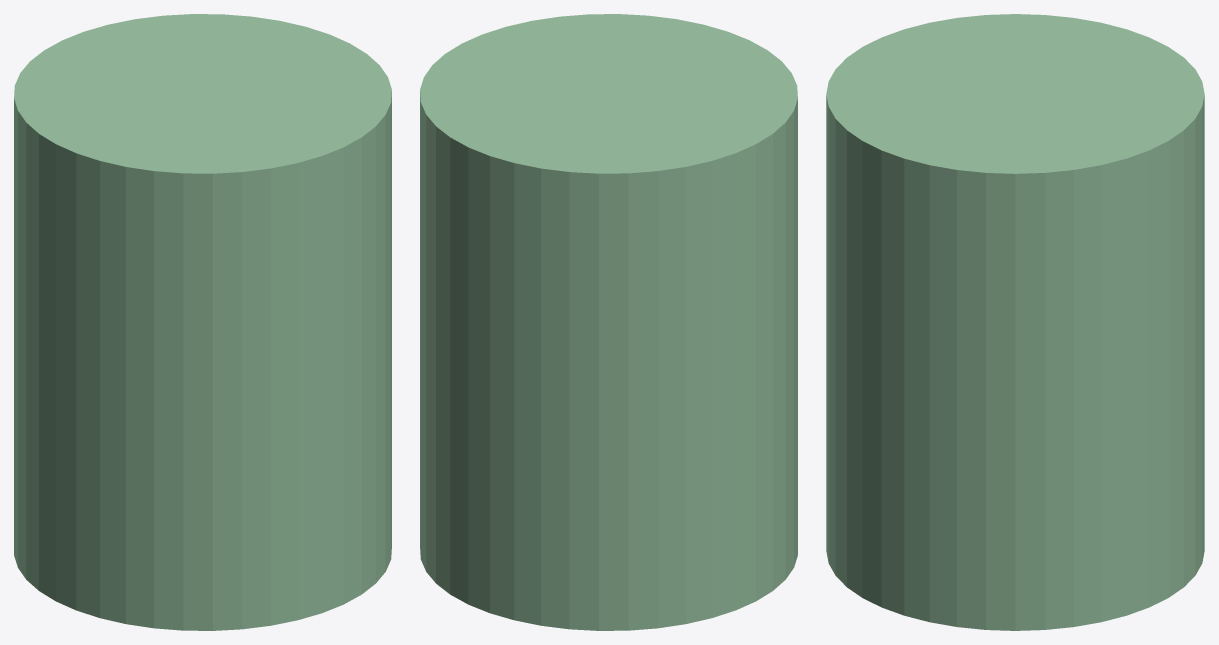
Rendered from rec_glass_jar_0027.glb.
3 renders of one model, left to right at view 1: azimuth 30°, elevation 25°; view 2: azimuth 150°, elevation 25°; view 3: azimuth 270°, elevation 25°, orthographic.
Parts seen in each view (by area): view 1: z-up-to-y-up; view 2: z-up-to-y-up; view 3: z-up-to-y-up.
Part boxes in pixels (x1,y1,x2,y2): z-up-to-y-up: [14, 14, 391, 630]; z-up-to-y-up: [420, 14, 797, 630]; z-up-to-y-up: [826, 14, 1204, 630].
Size of the model in its own units: 0.0706 by 0.0941 by 0.0706.
